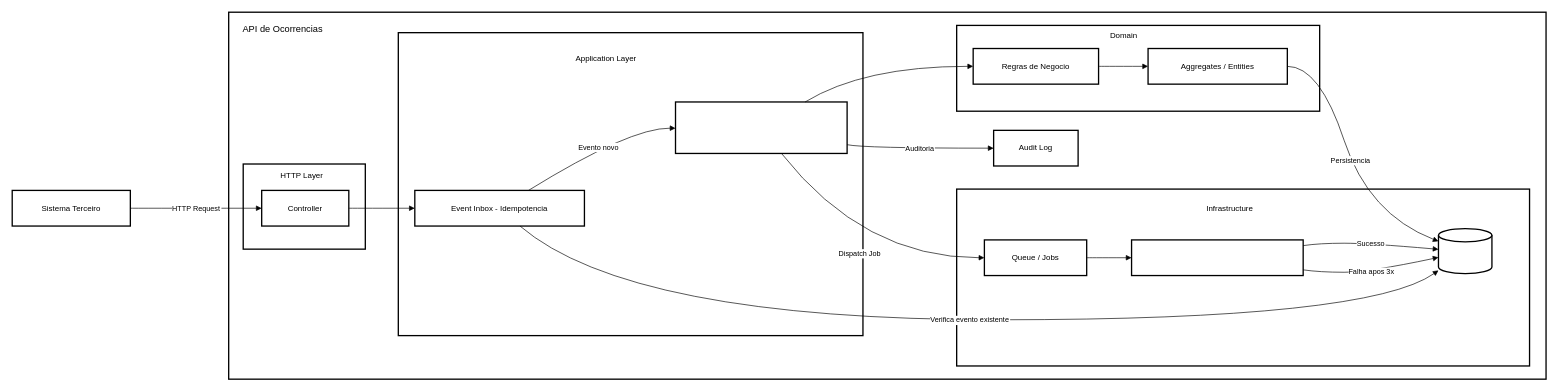
This 1558x391 diagram has some shape labels left out. The centre of each missing label's shape, as x and y in pixels:
"Application Service / Use Cases" goes at pixel 761 127.
"PostgreSQL" goes at pixel 1464 251.
"Retry Handler - 3 tentativas" goes at pixel 1217 257.
